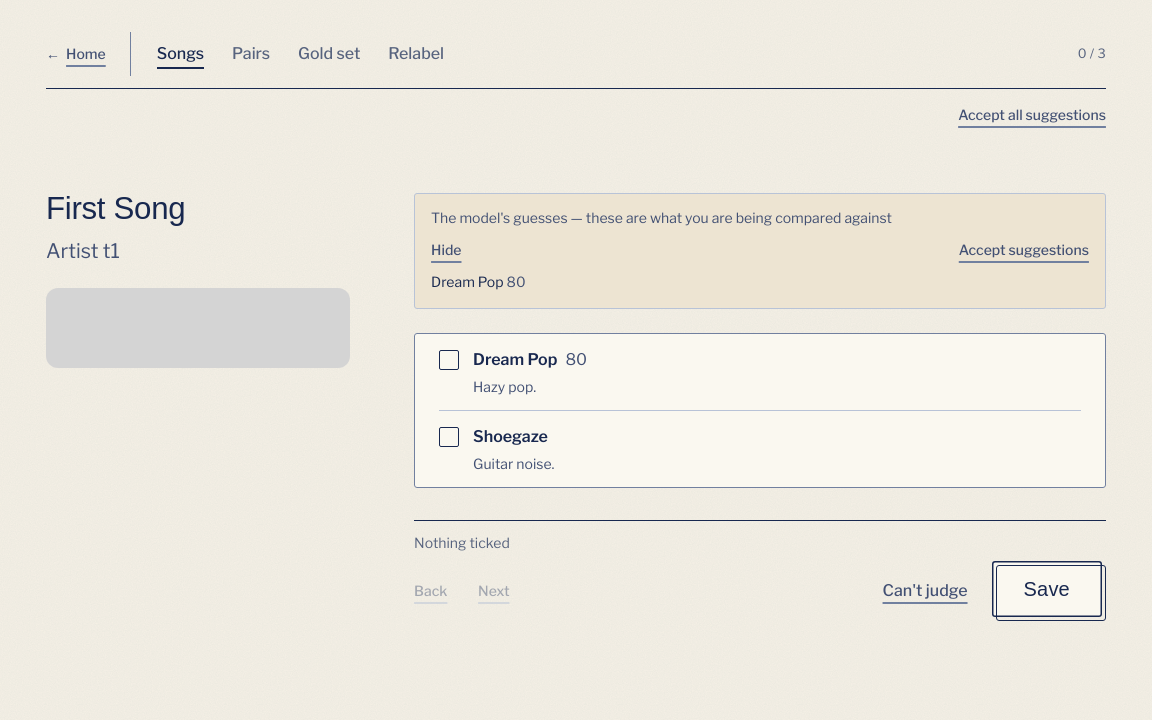
Test: bulk accept while running › says how many it saved once the run ends
Expected: the heading "First Song" is shown, [46,191,185,226]
Step 1. Click the button "Accept all suggestions" → (1032, 115), box [958,93,1106,137]
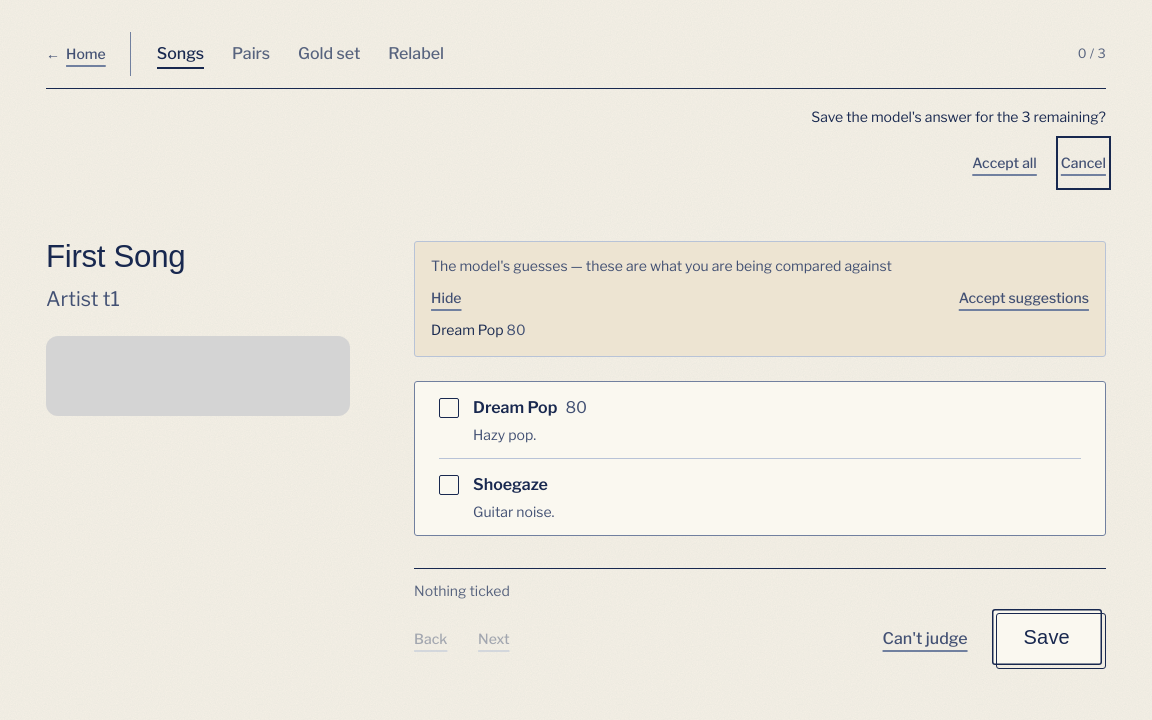
Step 2. Click the button "Accept all" → (1005, 163), box [972,141,1037,185]
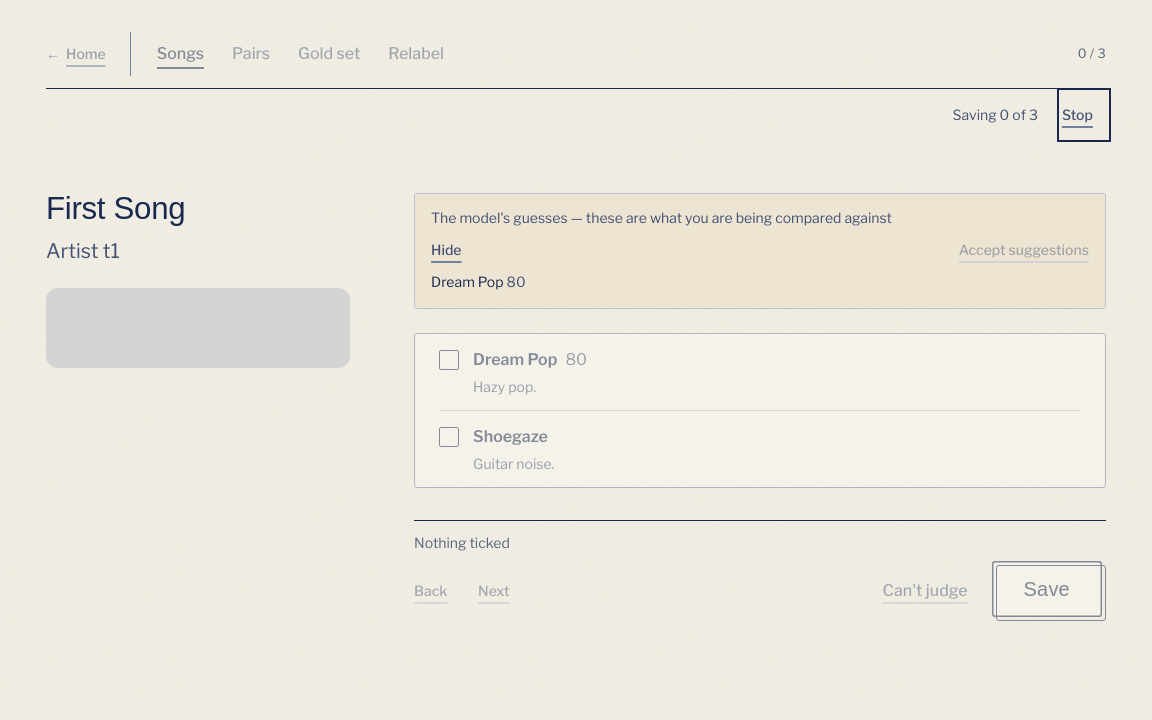
Step 3. Click the button "Stop" → (1084, 115), box [1062,93,1106,137]
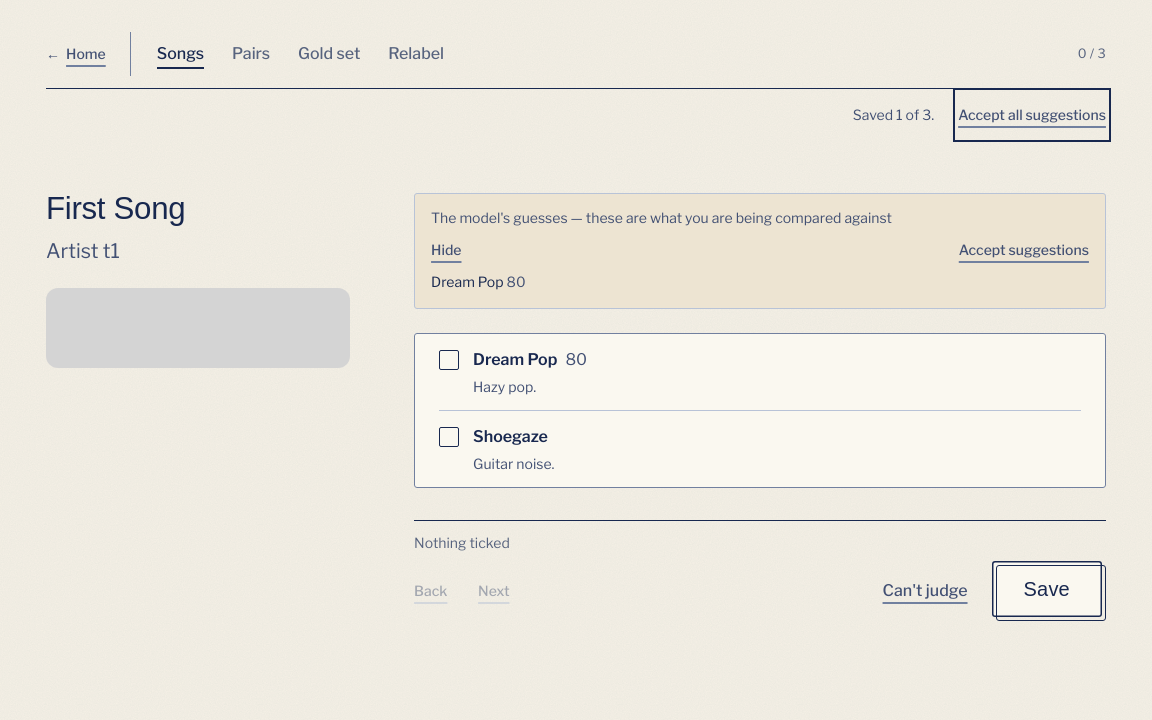
Result: the text "Saved 1 of 3." is shown at [853,106,934,123]
Step 4. Click the button "Accept all suggestions" → (1032, 115), box [958,93,1106,137]
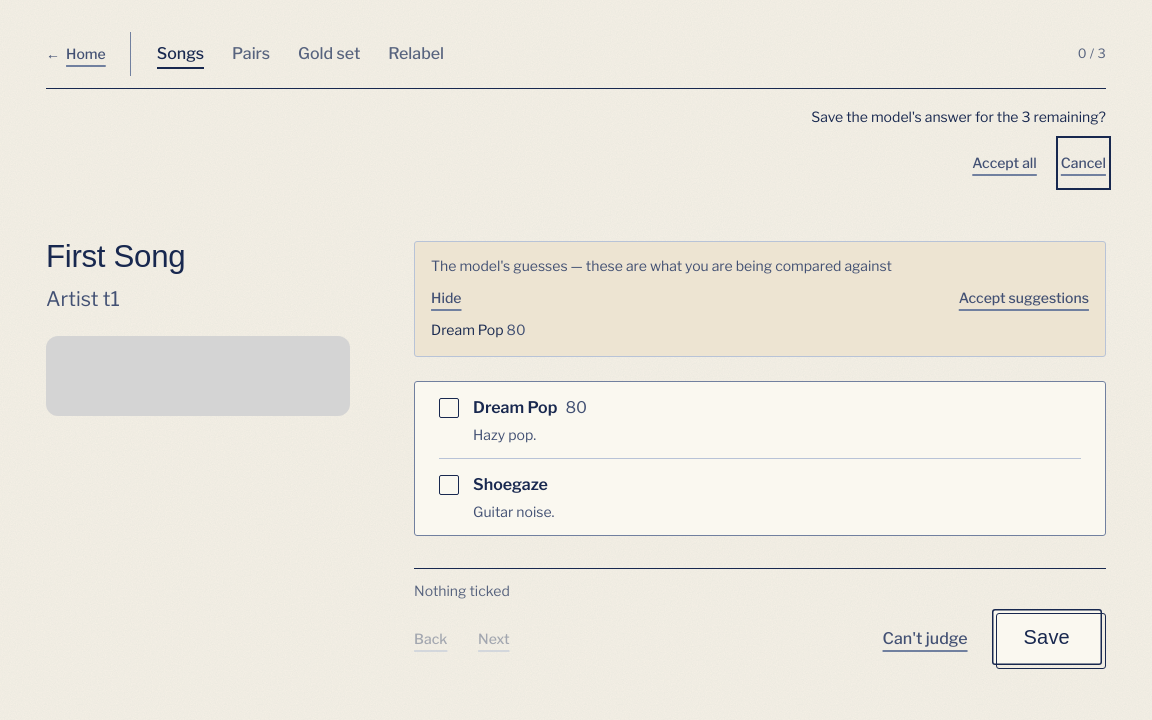
Result: the text "Saved 1 of 3." is gone
